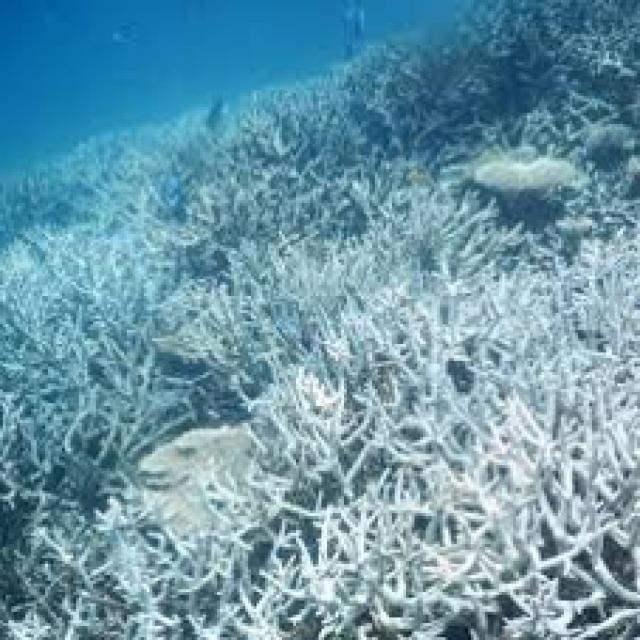Bleached: (1, 181, 640, 640), (272, 263, 640, 640), (1, 213, 165, 495), (1, 522, 291, 638), (146, 278, 286, 391), (142, 421, 273, 536), (475, 158, 584, 191)
